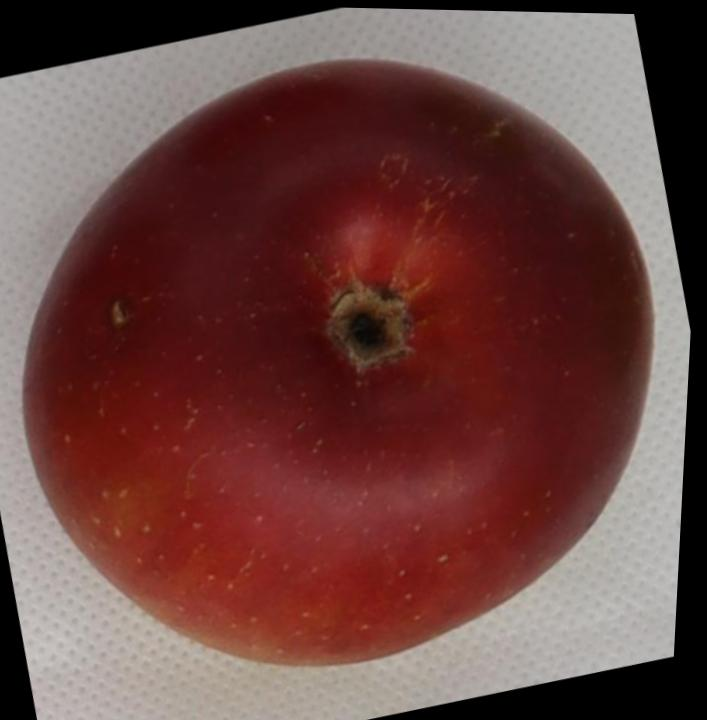apple: (20, 60, 648, 665)
surface_damage: (107, 301, 130, 329)
